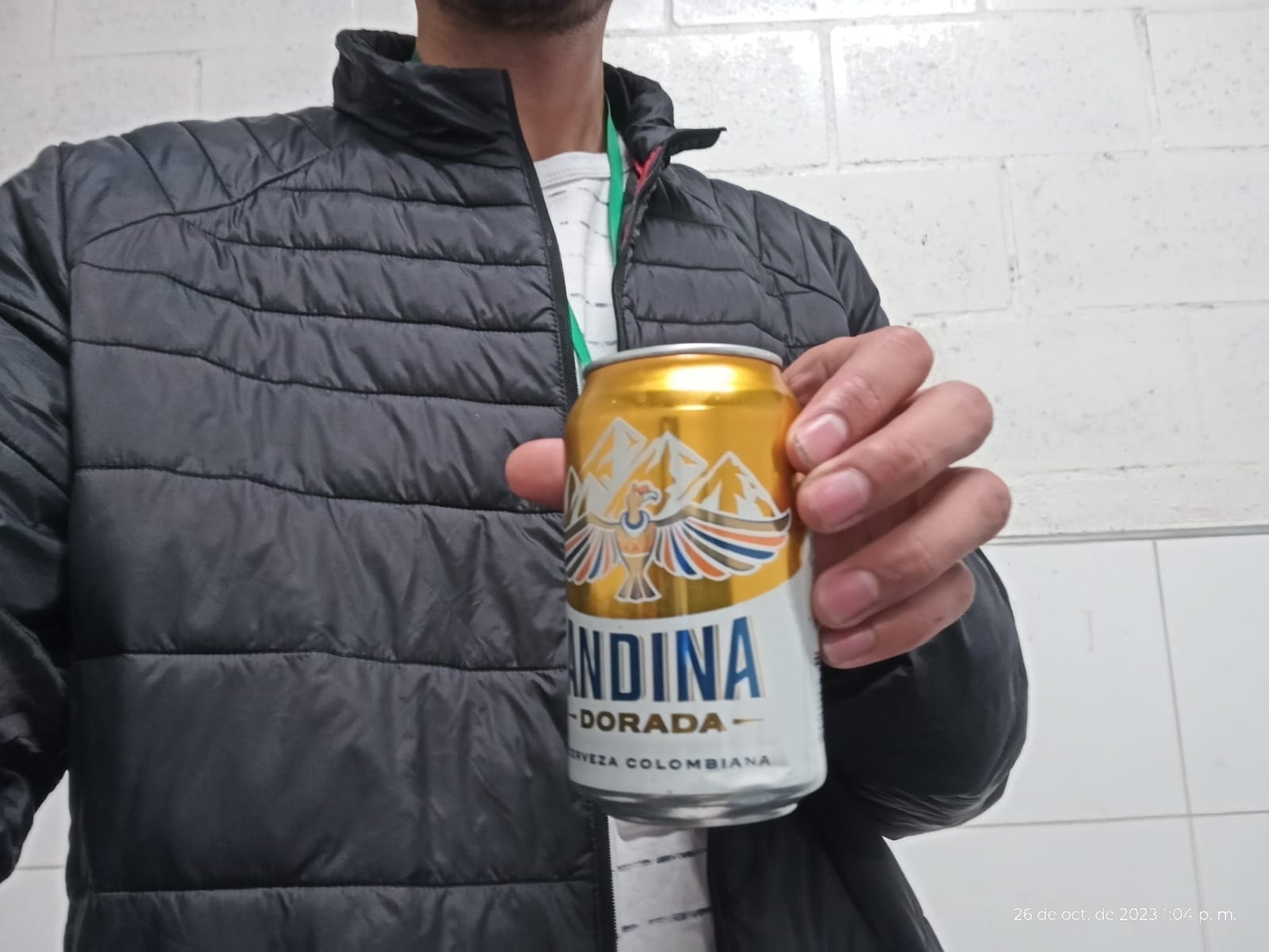Metal: (561, 343, 822, 825)
